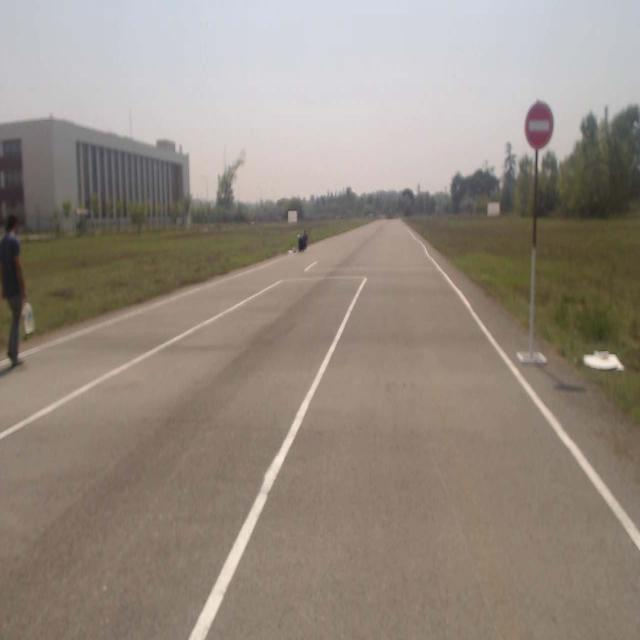girisyok: (525, 100, 554, 150)
